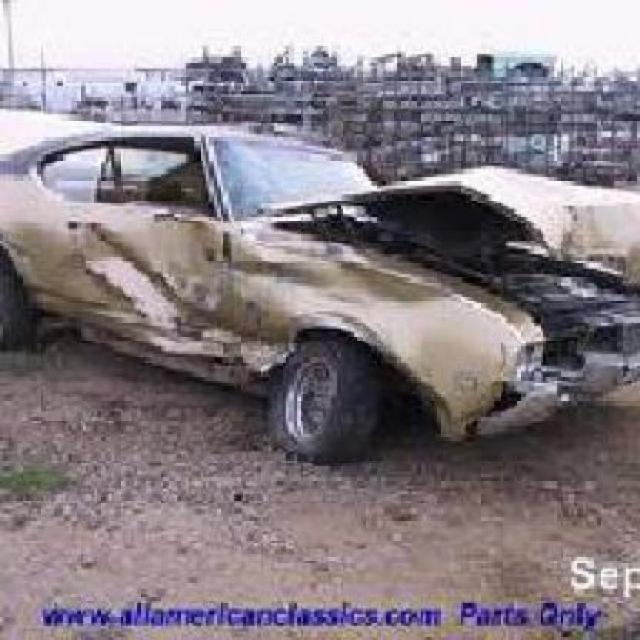damaged-door: (95, 138, 238, 359)
damaged-front-bumper: (500, 322, 638, 415)
damaged-hood: (280, 172, 637, 314)
